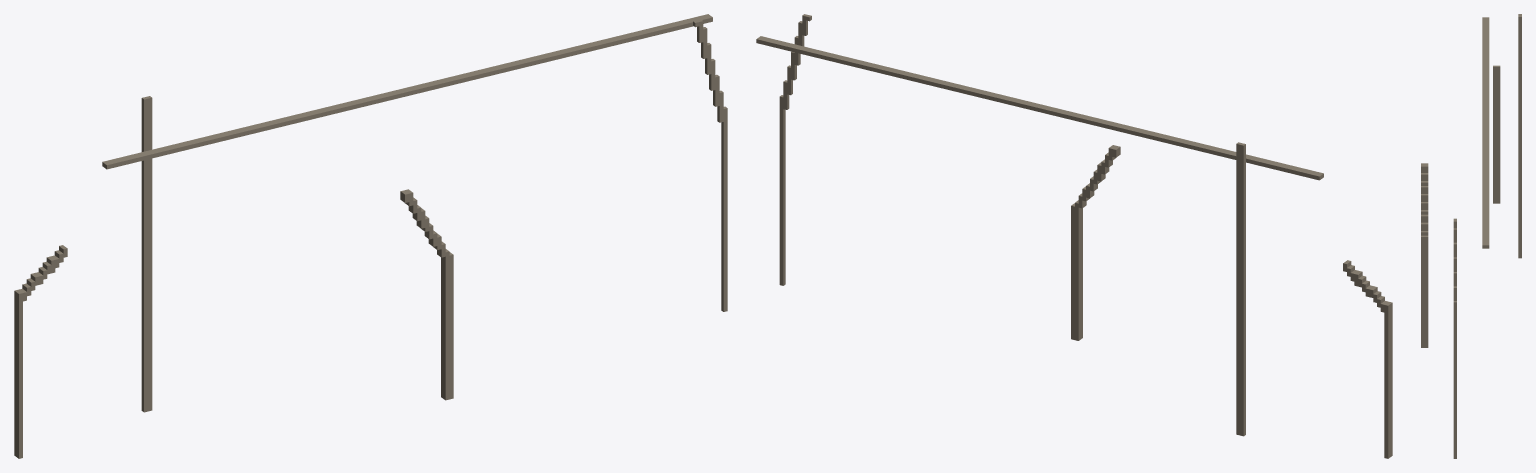
File: burnt_out_bus_stanchions.glb
3 views of the same model, side by side, from view 1: azimuth 30°, elevation 25°; view 2: azimuth 150°, elevation 25°; view 3: azimuth 270°, elevation 25° (orthographic). The views are drawn at different scales.
Visible parts, largest first — view 1: body:compound; view 2: body:compound; view 3: body:compound.
Part boxes in pixels (x1=…): body:compound: x1=14, y1=14, x2=727, y2=458; body:compound: x1=756, y1=14, x2=1392, y2=458; body:compound: x1=1421, y1=14, x2=1521, y2=458.
Size of the model in its own units: 5.31 by 2.31 by 0.875.
